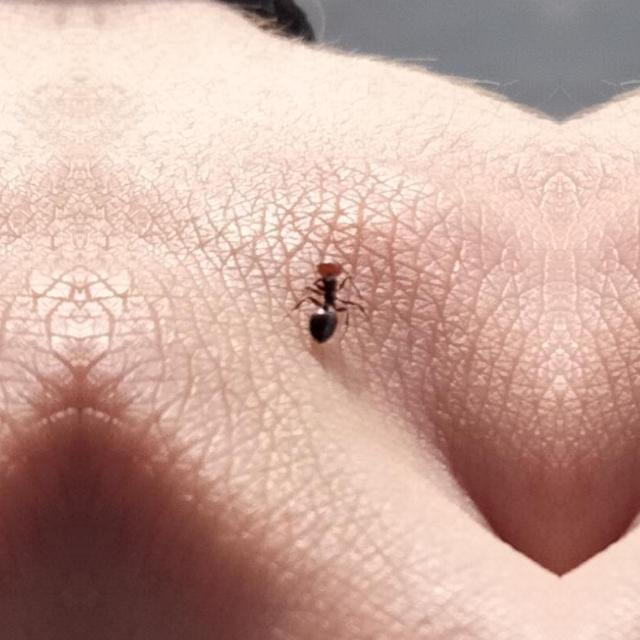Crematogaster: (296, 248, 356, 346)
